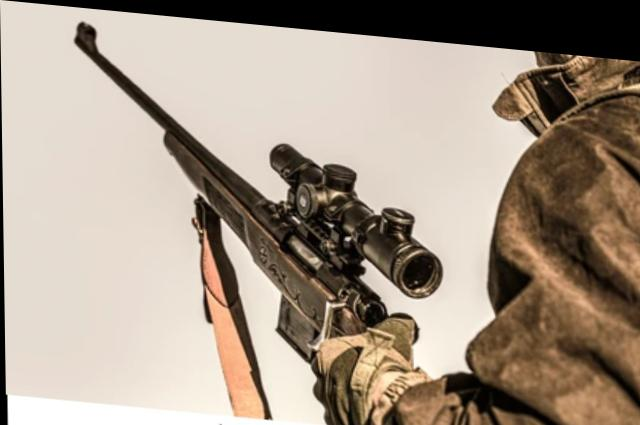other: (477, 57, 640, 424)
